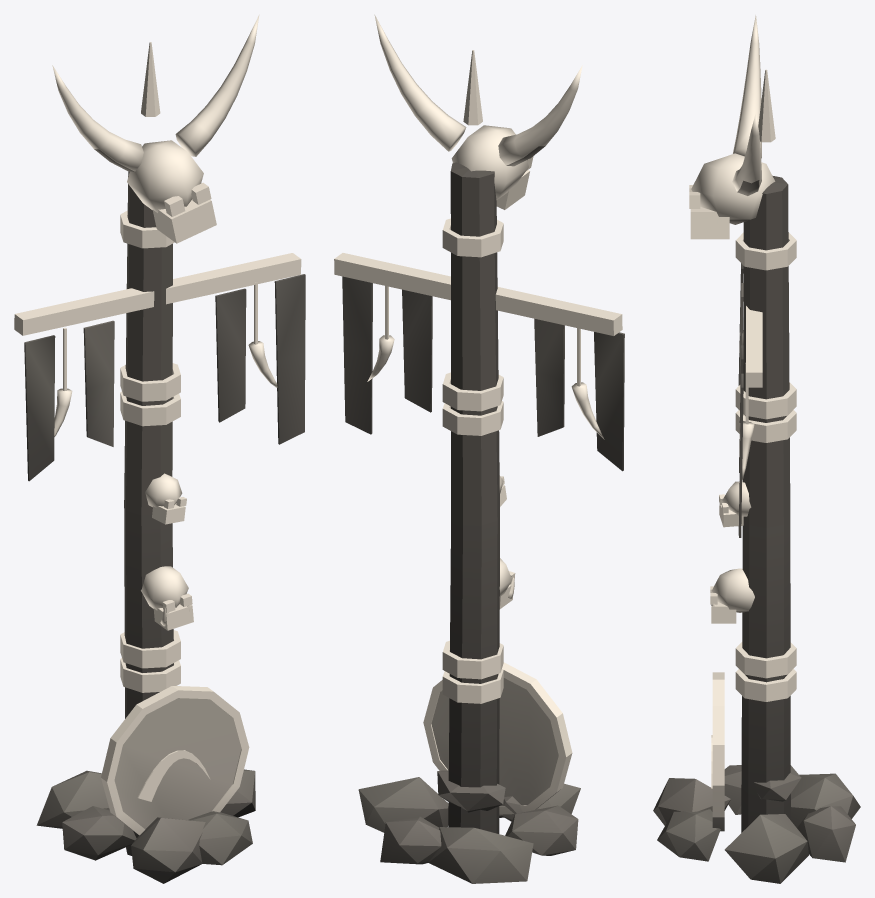
Rendered from SM_VKI_Prop_Orc_Totem.fbx.
3 renders of one model, left to right at view 1: azimuth 30°, elevation 25°; view 2: azimuth 150°, elevation 25°; view 3: azimuth 270°, elevation 25°, orthographic. The views are drawn at different scales.
Parts seen in each view (by area): view 1: SM_VKI_Prop_Orc_Totem.001; view 2: SM_VKI_Prop_Orc_Totem.001; view 3: SM_VKI_Prop_Orc_Totem.001.
Boxes of the visible parts, left/top/right/bottom form: SM_VKI_Prop_Orc_Totem.001: left=14, top=14, right=305, bottom=883; SM_VKI_Prop_Orc_Totem.001: left=334, top=14, right=624, bottom=883; SM_VKI_Prop_Orc_Totem.001: left=653, top=15, right=860, bottom=883.
Bounding box in the file's own units: 1.32 × 3.67 × 0.8726.
